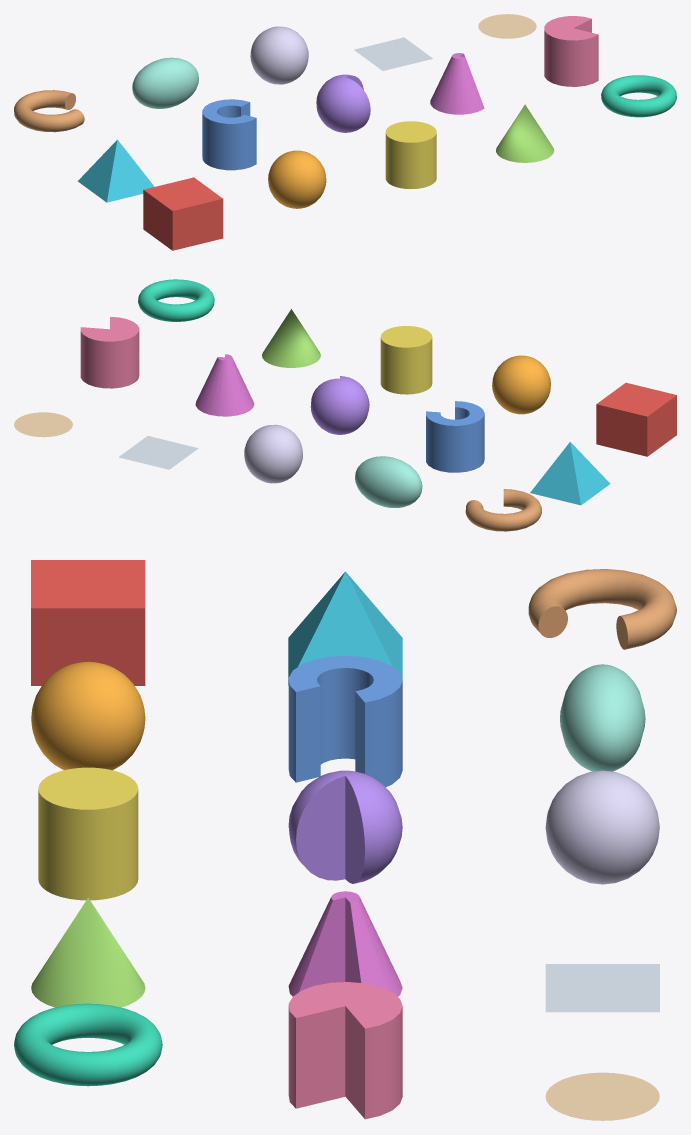
Rendered from all_primitives_materials.glb.
The picture shows the model from 3 angles, top to bottom: view 1: azimuth 30°, elevation 25°; view 2: azimuth 150°, elevation 25°; view 3: azimuth 270°, elevation 25°; orthographic projection. The views are drawn at different scales.
Visible parts, largest first — view 1: box, cylindrical_box, partial_cylinder, cylinder, sphere_no_pole, sphere, ellipsoid, pyramid, partial_sphere, torus, partial_torus, partial_cone (+3 smaller); view 2: box, partial_cylinder, cylindrical_box, cylinder, sphere, sphere_no_pole, ellipsoid, partial_sphere, pyramid, torus, partial_cone, cone (+3 smaller); view 3: partial_cylinder, cylindrical_box, box, cylinder, sphere_no_pole, partial_sphere, sphere, torus, ellipsoid, partial_torus, cone, partial_cone (+3 smaller).
Boxes of the visible parts, left/top/right/bottom form: box: left=143, top=177, right=223, bottom=250; cylindrical_box: left=202, top=99, right=256, bottom=170; partial_cylinder: left=544, top=16, right=598, bottom=86; cylinder: left=385, top=121, right=436, bottom=188; sphere_no_pole: left=250, top=26, right=308, bottom=84; sphere: left=268, top=150, right=326, bottom=208; ellipsoid: left=132, top=57, right=198, bottom=108; pyramid: left=77, top=139, right=154, bottom=202; partial_sphere: left=316, top=74, right=370, bottom=132; torus: left=601, top=75, right=676, bottom=117; partial_torus: left=14, top=90, right=84, bottom=132; partial_cone: left=430, top=53, right=484, bottom=114; box: left=596, top=382, right=676, bottom=456; partial_cylinder: left=80, top=317, right=139, bottom=388; cylindrical_box: left=426, top=401, right=484, bottom=472; cylinder: left=380, top=326, right=432, bottom=394; sphere: left=492, top=355, right=550, bottom=414; sphere_no_pole: left=244, top=424, right=302, bottom=483; ellipsoid: left=355, top=456, right=422, bottom=507; partial_sphere: left=310, top=376, right=369, bottom=434; pyramid: left=530, top=442, right=610, bottom=505; torus: left=138, top=279, right=214, bottom=321; partial_cone: left=195, top=354, right=254, bottom=416; cone: left=262, top=309, right=320, bottom=367; partial_cylinder: left=288, top=982, right=402, bottom=1119; cylindrical_box: left=288, top=656, right=402, bottom=787; box: left=31, top=560, right=145, bottom=685; cylinder: left=38, top=767, right=138, bottom=900; sphere_no_pole: left=545, top=770, right=659, bottom=884; partial_sphere: left=288, top=770, right=402, bottom=883; sphere: left=31, top=661, right=145, bottom=770; torus: left=14, top=1003, right=162, bottom=1086; ellipsoid: left=560, top=664, right=645, bottom=771; partial_torus: left=528, top=569, right=676, bottom=649; cone: left=31, top=897, right=145, bottom=1007; partial_cone: left=288, top=891, right=402, bottom=996.
Size of the model in its own units: 82.39 by 8 by 46.4.
